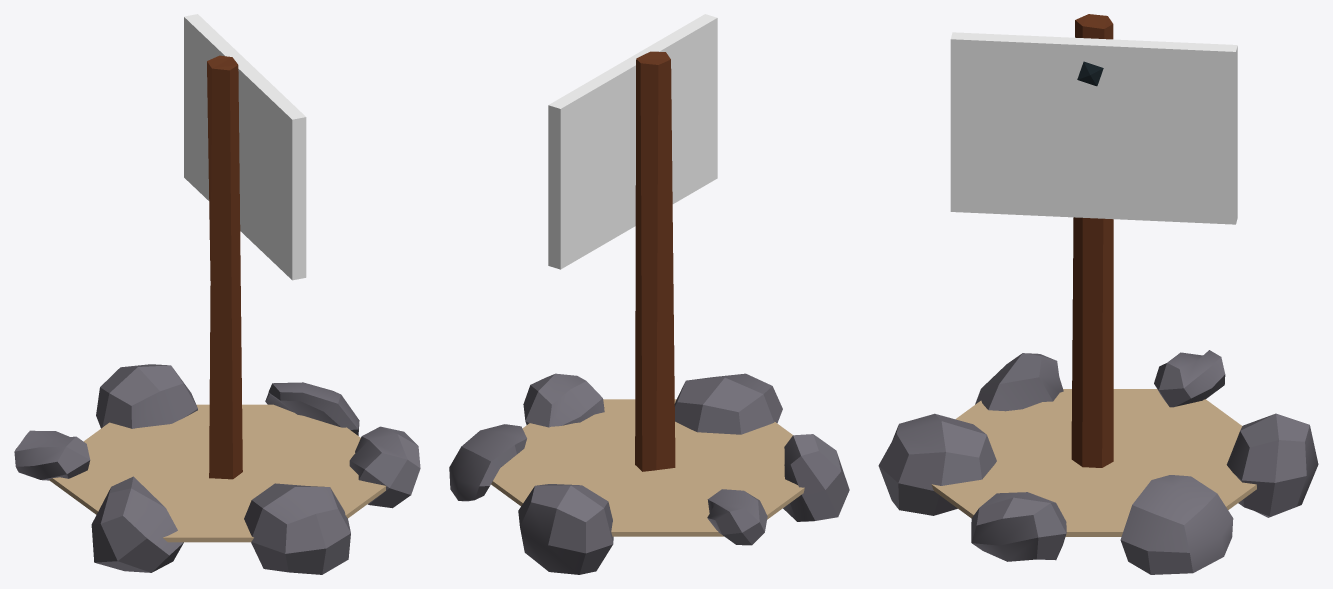
The model's file is low_poly_white_sign_on_the_spar.glb.
3 views of the same model, side by side, from view 1: azimuth 30°, elevation 25°; view 2: azimuth 150°, elevation 25°; view 3: azimuth 270°, elevation 25° (orthographic). The views are drawn at different scales.
Parts seen in each view (by area): view 1: Polygon.001_9, Cube_7, Polygon_6, rock.005_3, rock.001_1, rock_0, rock.007_4, rock.002_5, rock.003_2; view 2: Cube_7, Polygon.001_9, Polygon_6, rock_0, rock.005_3, rock.001_1, rock.003_2, rock.007_4, rock.002_5; view 3: Cube_7, Polygon.001_9, Polygon_6, rock.003_2, rock.005_3, rock_0, rock.007_4, rock.001_1, rock.002_5.
Part boxes in pixels (box(x1,y1,x2,y2)): Polygon.001_9: box(49, 404, 386, 542); Cube_7: box(184, 14, 306, 280); Polygon_6: box(207, 55, 242, 479); rock.005_3: box(244, 483, 350, 574); rock.001_1: box(91, 476, 183, 572); rock_0: box(96, 364, 197, 428); rock.007_4: box(349, 426, 420, 508); rock.002_5: box(14, 430, 90, 480); rock.003_2: box(265, 382, 359, 435); Cube_7: box(548, 14, 717, 269); Polygon.001_9: box(491, 399, 804, 536); Polygon_6: box(635, 51, 675, 471); rock_0: box(518, 484, 613, 574); rock.005_3: box(674, 373, 782, 434); rock.001_1: box(783, 434, 849, 521); rock.003_2: box(449, 424, 526, 501); rock.007_4: box(523, 373, 604, 427); rock.002_5: box(707, 489, 767, 545); Cube_7: box(950, 32, 1237, 224); Polygon.001_9: box(931, 389, 1256, 536); Polygon_6: box(1071, 14, 1113, 467); rock.003_2: box(1120, 475, 1233, 574); rock.005_3: box(878, 413, 996, 515); rock_0: box(1226, 413, 1318, 517); rock.007_4: box(971, 492, 1066, 561); rock.001_1: box(975, 353, 1063, 411); rock.002_5: box(1154, 350, 1225, 407).
Bounding box in the file's own units: 9.48 × 12.91 × 10.51.
